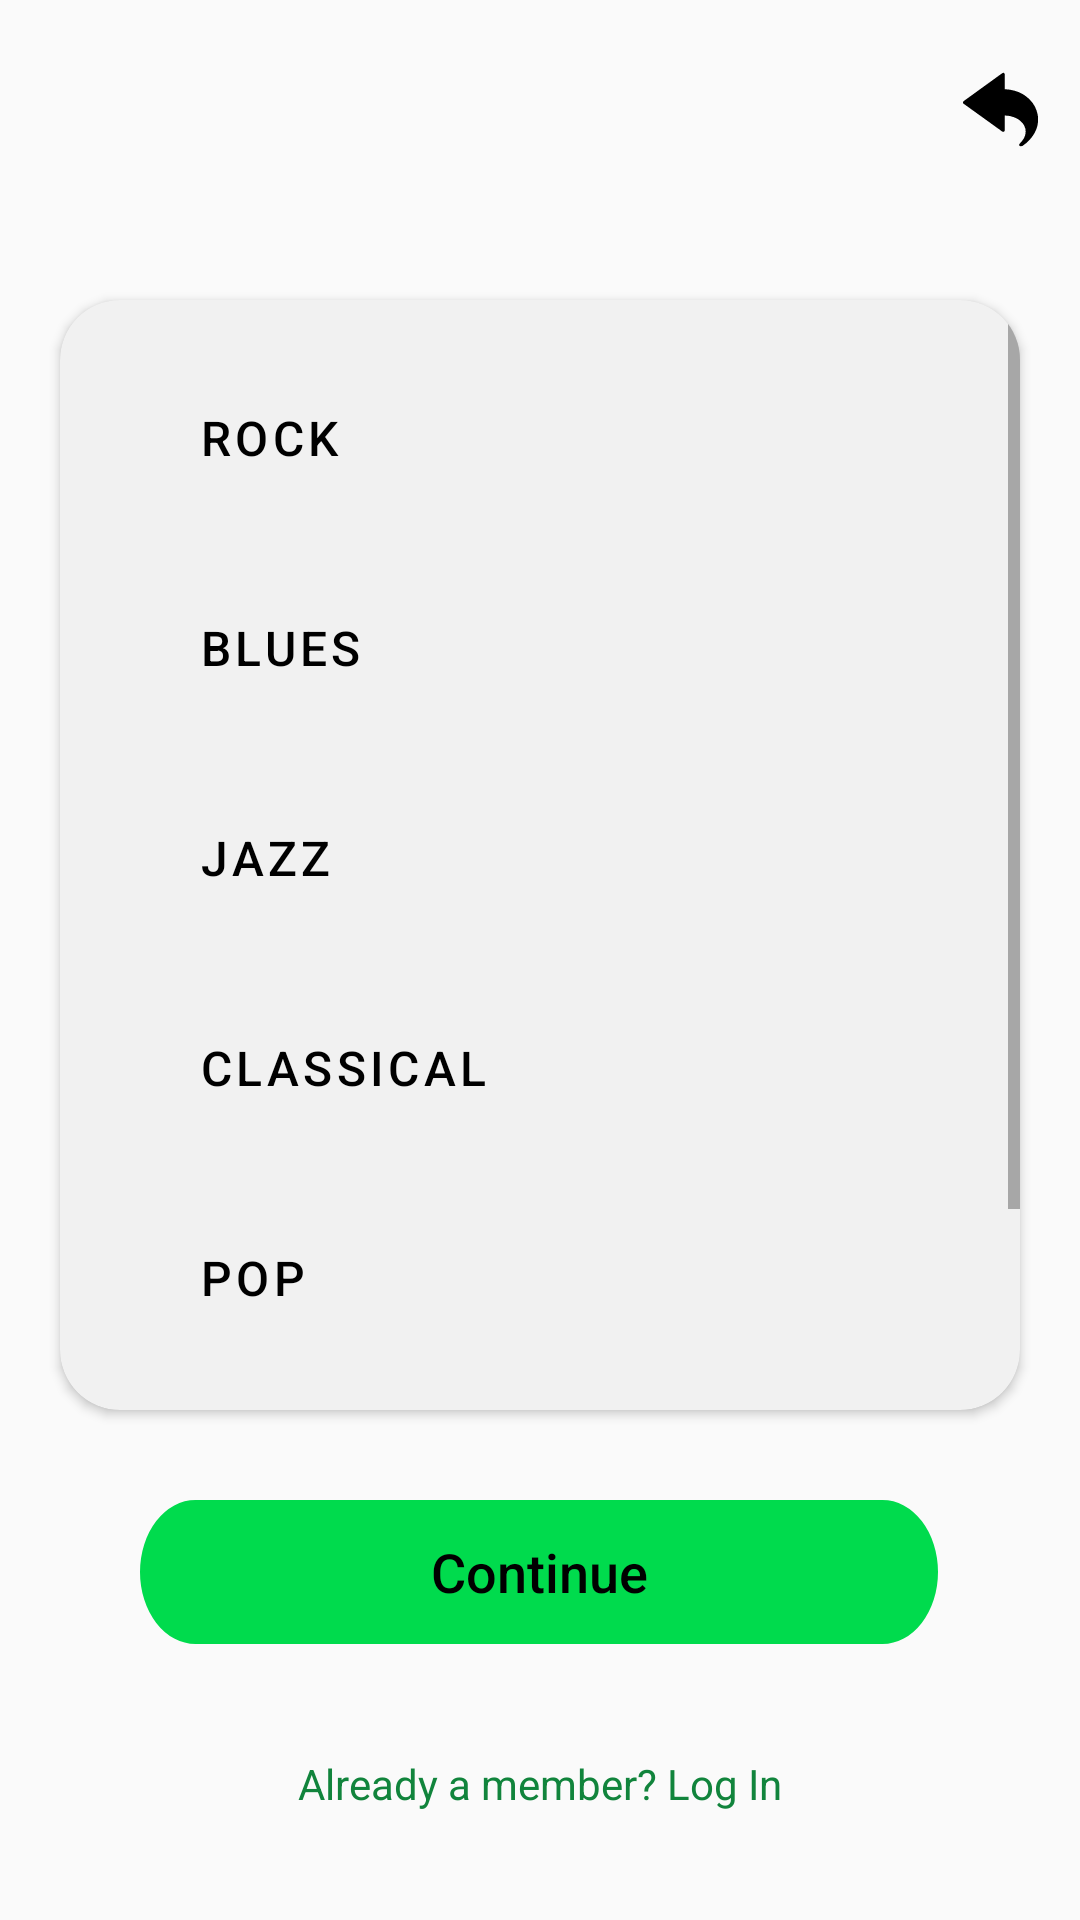

Named icons in this screenshot (1080px x 1920px) and their bounding boxes, bbox=(x1, y1, x2, y2):
Return: bbox=(963, 72, 1038, 147)
